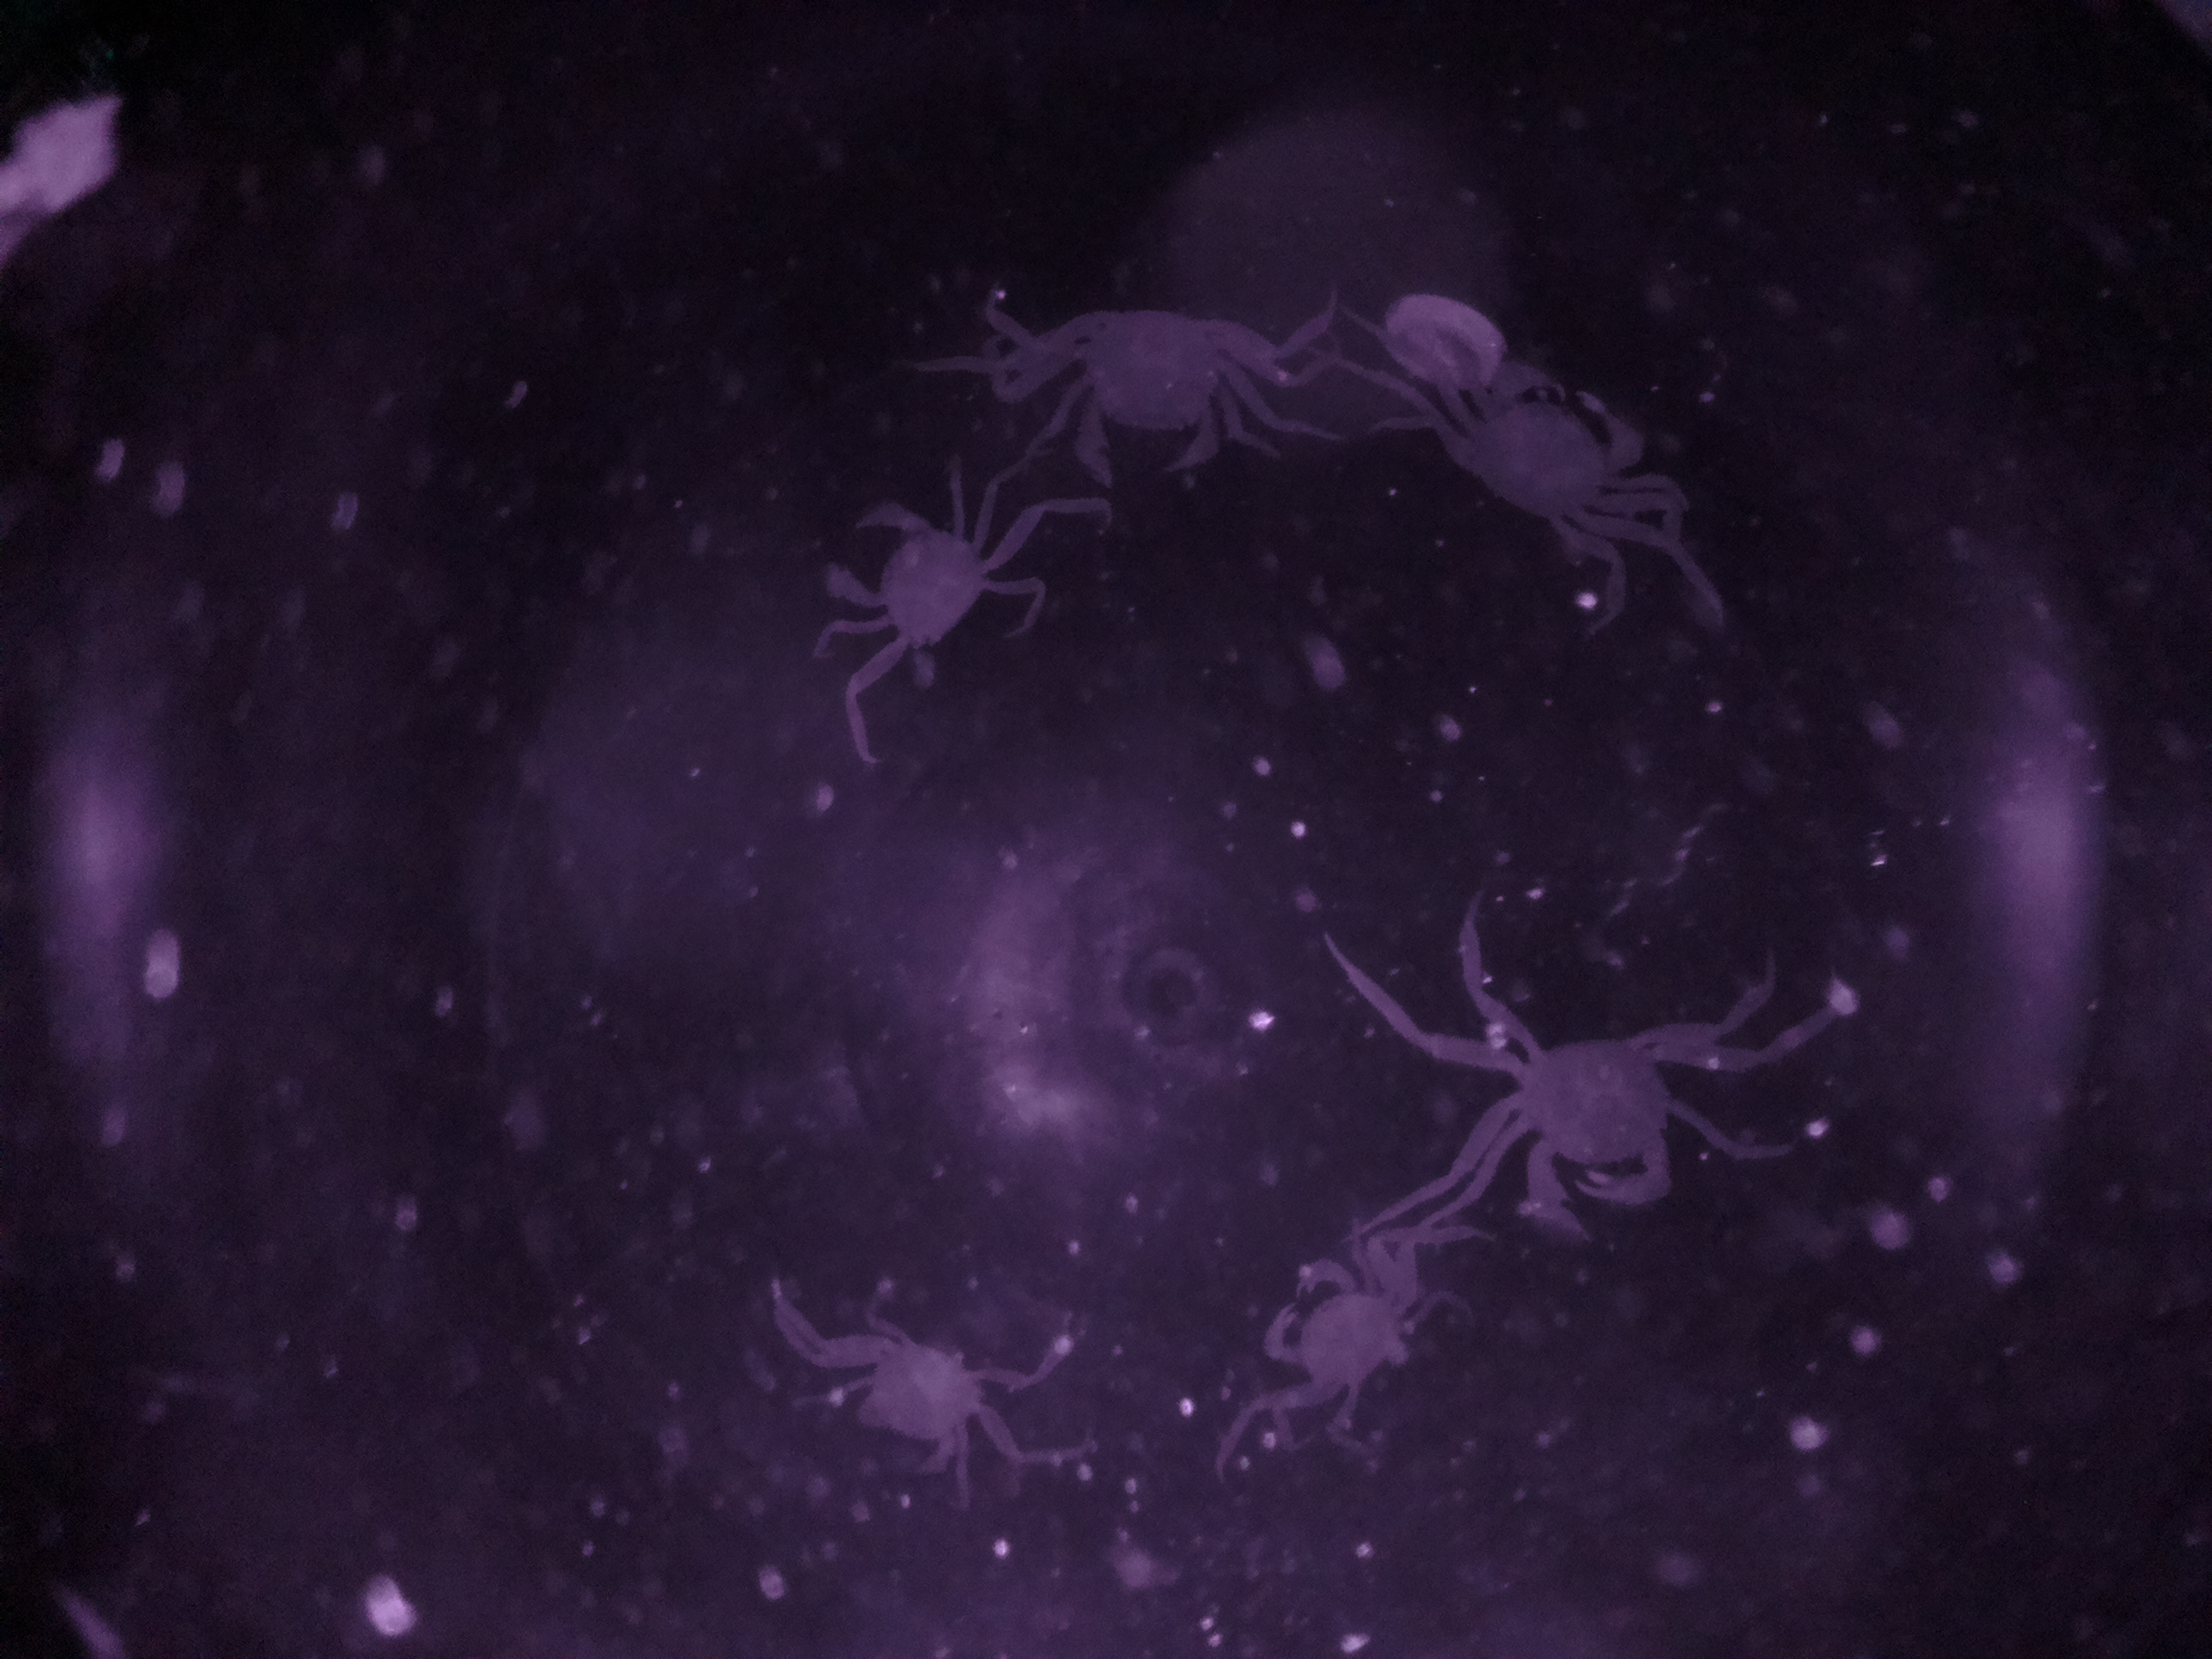Crab: (1453, 993, 1777, 1244), (1000, 286, 1322, 502), (1404, 350, 1660, 565), (805, 488, 1061, 701), (1251, 1244, 1449, 1422), (843, 1303, 1021, 1500)
